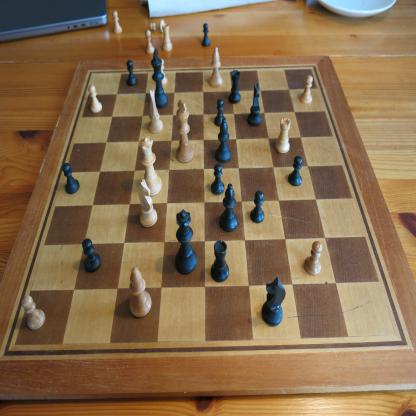black-bishop: (219, 183, 238, 233), (215, 118, 231, 163)
black-king: (150, 48, 169, 109)
black-knight: (261, 276, 286, 327), (247, 83, 262, 127)
black-pawn: (82, 238, 102, 273), (62, 162, 80, 195), (250, 190, 265, 224), (288, 155, 303, 187), (210, 162, 224, 194), (214, 98, 226, 127), (126, 59, 138, 87), (201, 23, 211, 47)
black-queen: (175, 209, 198, 275)
black-rook: (210, 239, 230, 283), (228, 70, 242, 104)
white-bishop: (129, 266, 152, 318), (209, 47, 223, 88)
white-king: (176, 99, 194, 164)
white-knight: (137, 178, 158, 228), (148, 89, 163, 134)
white-pawn: (21, 295, 46, 330), (303, 240, 323, 276), (88, 85, 103, 113), (300, 75, 314, 104), (112, 10, 123, 34), (145, 29, 155, 54), (150, 19, 166, 33), (160, 58, 168, 86)
white-queen: (138, 136, 162, 197)
white-rook: (275, 117, 291, 154), (162, 23, 173, 52)
